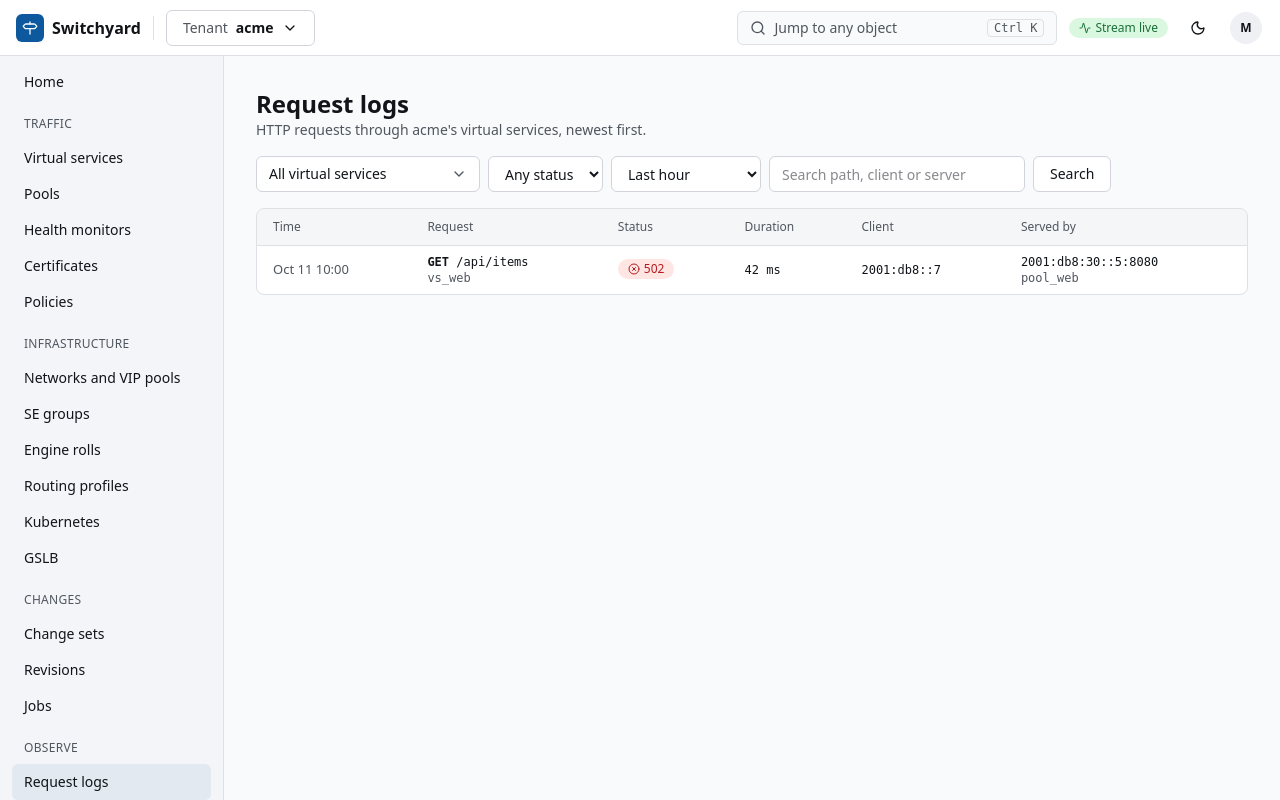
Test: request logs › expands a row to its raw line
The image size is (1280, 800).
Click the text "/api/items".
click(507, 270)  # box [411,246,602,294]
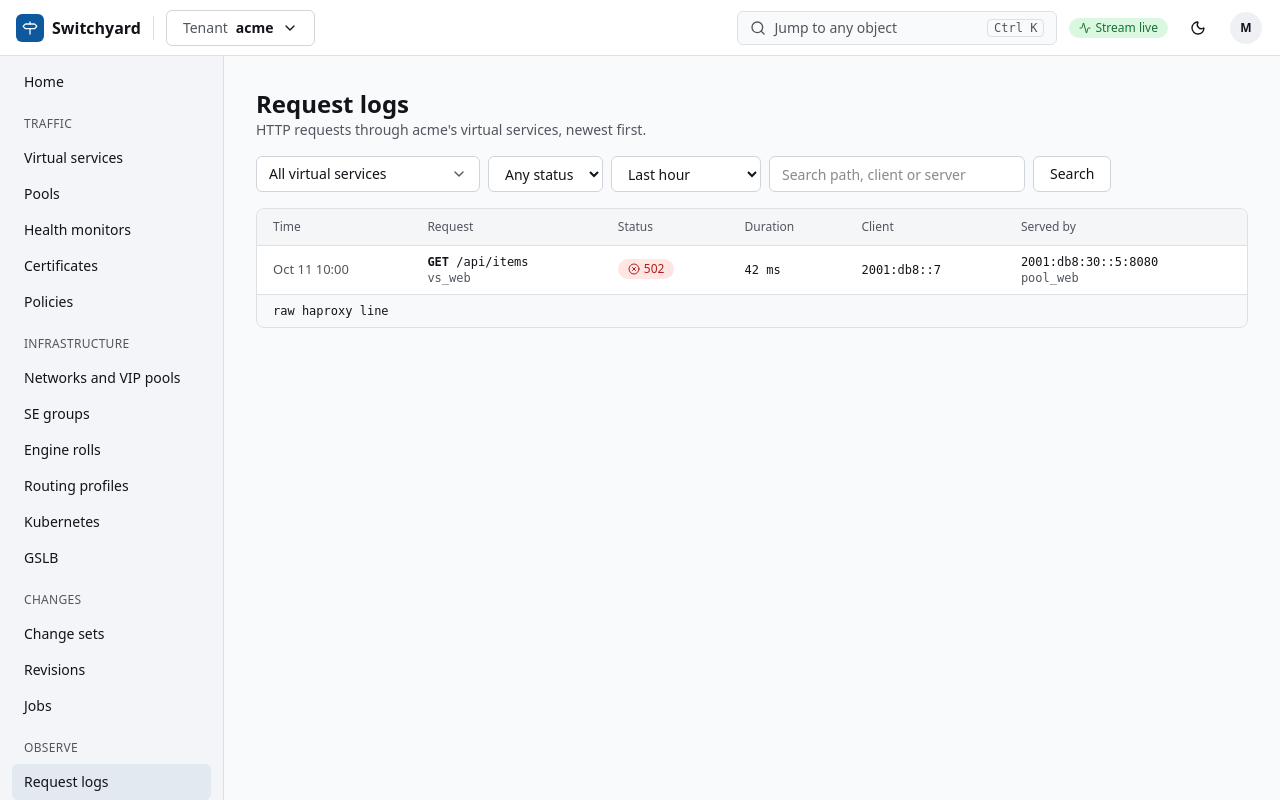
Expected: the text named "Raw log line" reads "raw haproxy line", [273,304,389,318]
